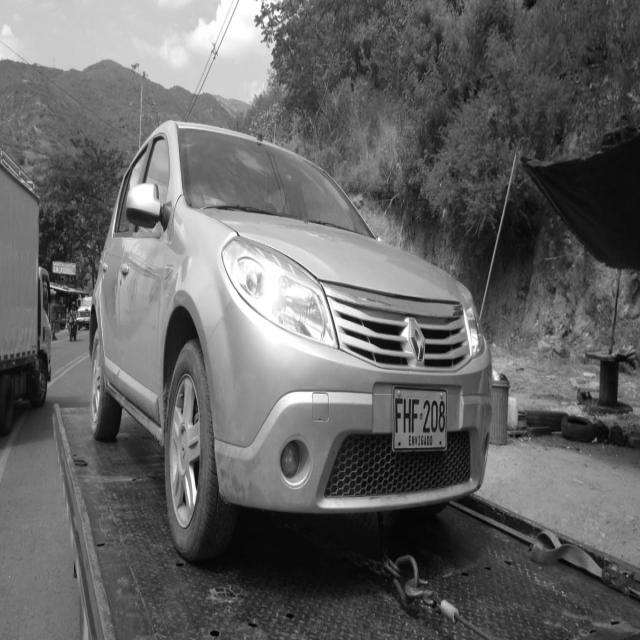plate: (390, 381, 450, 456)
